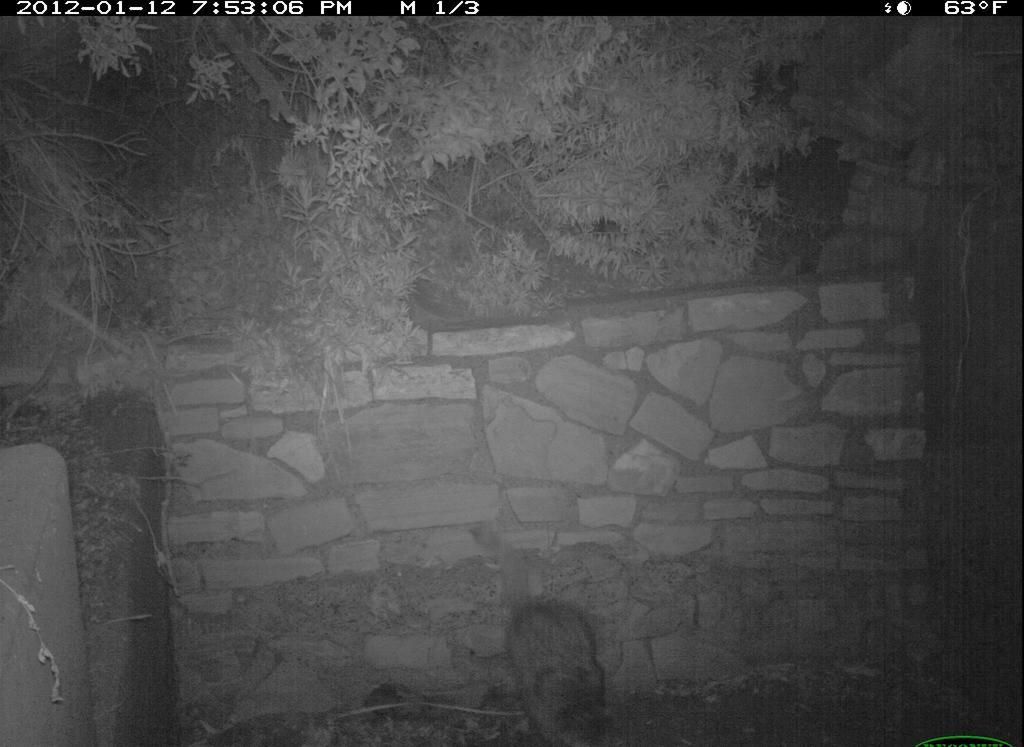raccoon: (493, 592, 629, 747)
